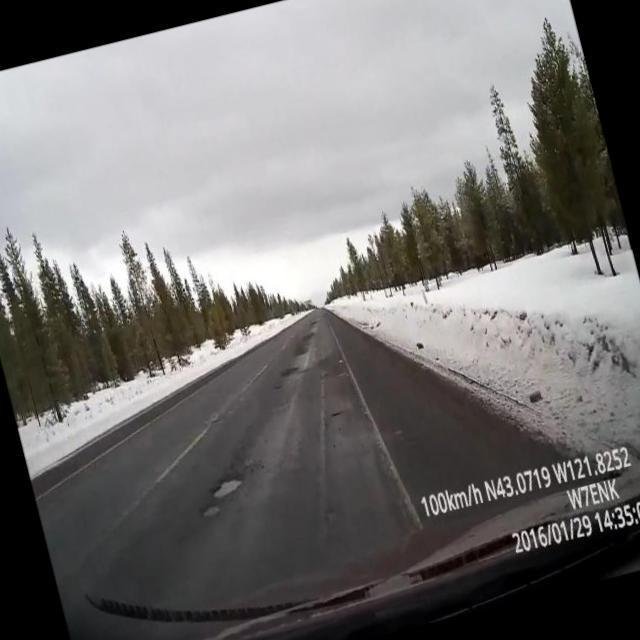Pothole: (212, 477, 243, 499), (202, 504, 220, 517)
